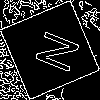N: (25, 25, 81, 75)
